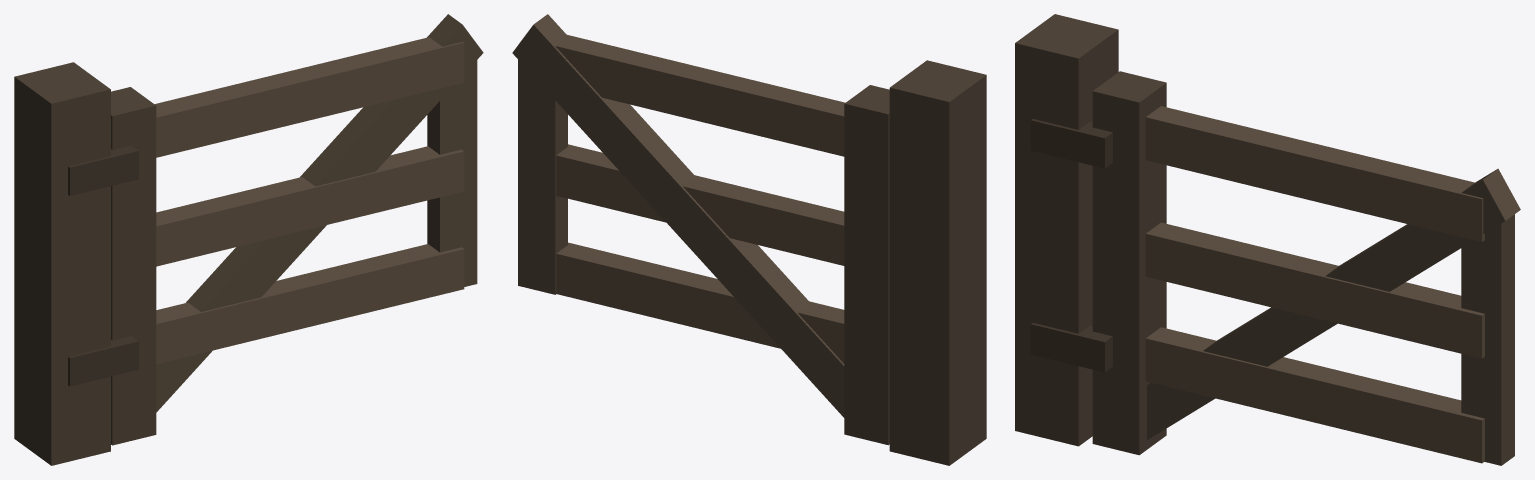
File: GateLeft.fbx
3 renders of one model, left to right at view 1: azimuth 30°, elevation 25°; view 2: azimuth 150°, elevation 25°; view 3: azimuth 330°, elevation 25°, orthographic. The views are drawn at different scales.
Visible parts, largest first — view 1: GateLeft; view 2: GateLeft; view 3: GateLeft.
Boxes of the visible parts, x1=… form: GateLeft: x1=14, y1=14, x2=483, y2=465; GateLeft: x1=512, y1=14, x2=986, y2=465; GateLeft: x1=1015, y1=14, x2=1520, y2=465.
Bounding box in the file's own units: 6.3 × 4.9 × 0.9562.
